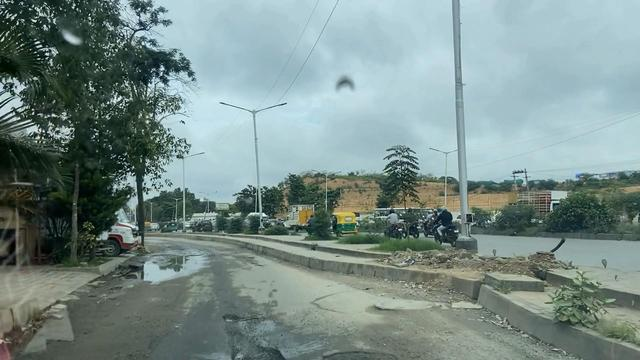RoadDamages: (226, 312, 320, 360), (368, 293, 455, 317), (323, 344, 411, 360)
